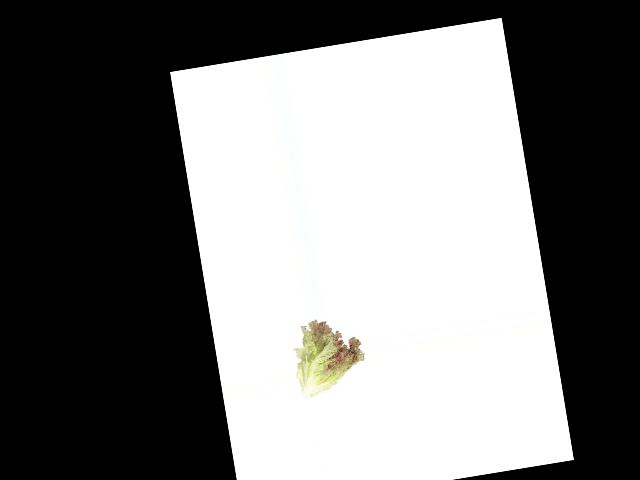lettuce: (289, 312, 368, 398)
